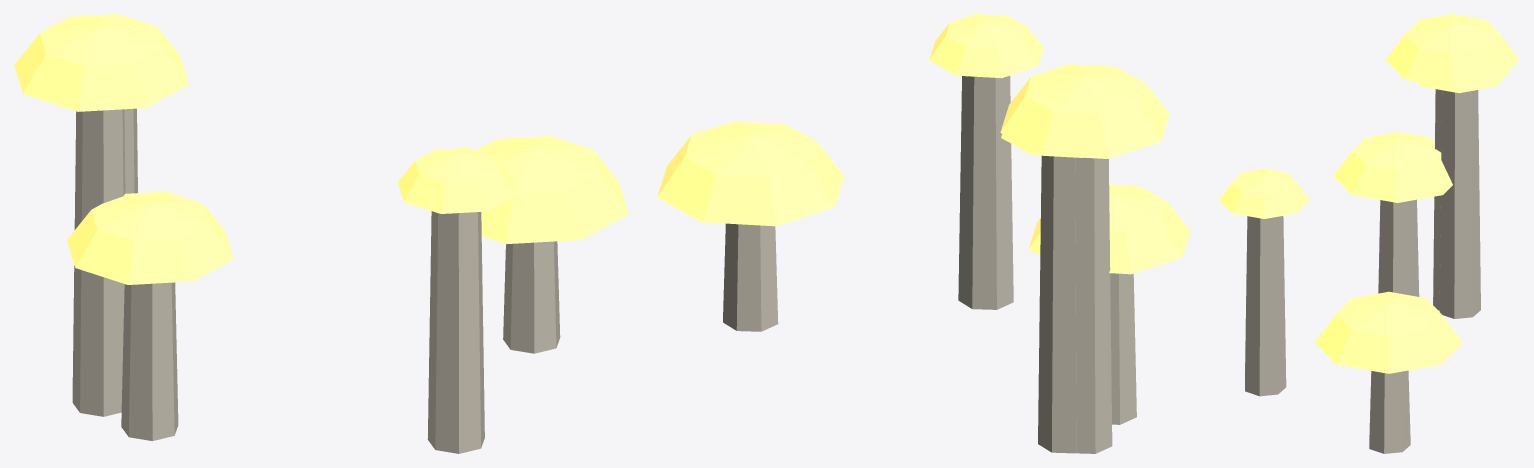
The model's file is mushroom_ember.glb.
3 renders of one model, left to right at view 1: azimuth 30°, elevation 25°; view 2: azimuth 150°, elevation 25°; view 3: azimuth 270°, elevation 25°, orthographic. The views are drawn at different scales.
Visible parts, largest first — view 1: mushroom_ember_7; view 2: mushroom_ember_7; view 3: mushroom_ember_7.
Boxes of the visible parts, bbox=[...] form: mushroom_ember_7: bbox=[14, 14, 628, 453]; mushroom_ember_7: bbox=[657, 14, 1190, 453]; mushroom_ember_7: bbox=[1219, 14, 1519, 453].
Size of the model in its own units: 0.7604 by 0.498 by 0.483.
